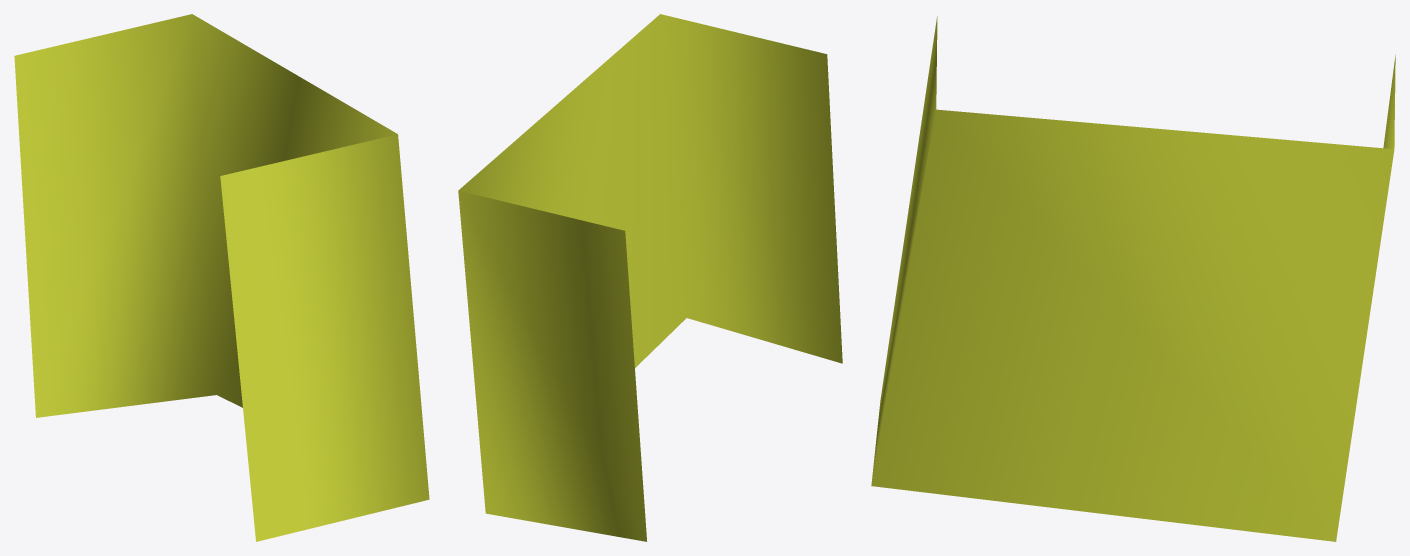
The model's file is b_polySurface643_b_BMW_i8Elite_2_620.glb.
3 renders of one model, left to right at view 1: azimuth 30°, elevation 25°; view 2: azimuth 150°, elevation 25°; view 3: azimuth 270°, elevation 25°, orthographic. The views are drawn at different scales.
Visible parts, largest first — view 1: b:polySurface643_b:BMW_i8Elite_2017CalliperGloss_Material1_0; view 2: b:polySurface643_b:BMW_i8Elite_2017CalliperGloss_Material1_0; view 3: b:polySurface643_b:BMW_i8Elite_2017CalliperGloss_Material1_0.
Boxes of the visible parts, x1,y1,x2,y2 form: b:polySurface643_b:BMW_i8Elite_2017CalliperGloss_Material1_0: [14, 14, 429, 541]; b:polySurface643_b:BMW_i8Elite_2017CalliperGloss_Material1_0: [458, 14, 842, 541]; b:polySurface643_b:BMW_i8Elite_2017CalliperGloss_Material1_0: [871, 16, 1395, 541].
Size of the model in its own units: 0.00562 by 0.0117 by 0.0129.
